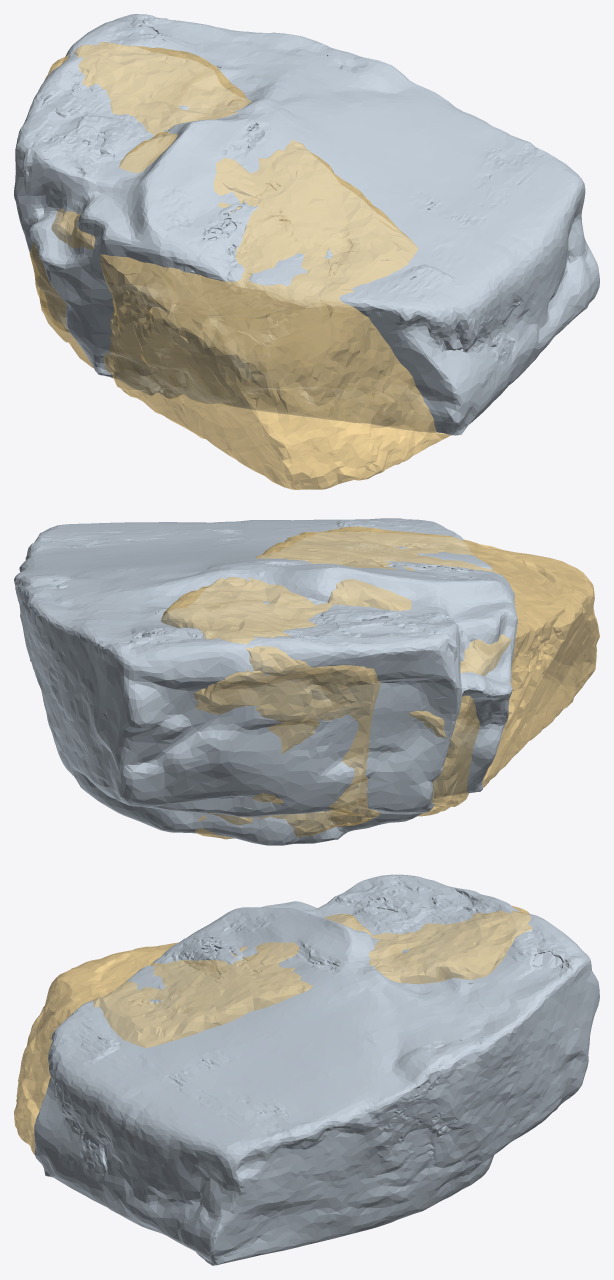
3 views of the same model, one above another, from view 1: azimuth 30°, elevation 25°; view 2: azimuth 150°, elevation 25°; view 3: azimuth 270°, elevation 25° (orthographic). The views are drawn at different scales.
Parts seen in each view (by area): view 1: imagination, truth; view 2: imagination, truth; view 3: imagination, truth.
Part boxes in pixels (left/top/right/bottom): imagination: left=14, top=14, right=599, bottom=435; truth: left=29, top=42, right=450, bottom=489; imagination: left=14, top=518, right=517, bottom=845; truth: left=161, top=526, right=599, bottom=839; imagination: left=34, top=874, right=599, bottom=1265; truth: left=14, top=906, right=531, bottom=1154.
Size of the model in its own units: 1.17 by 0.5319 by 1.29.
